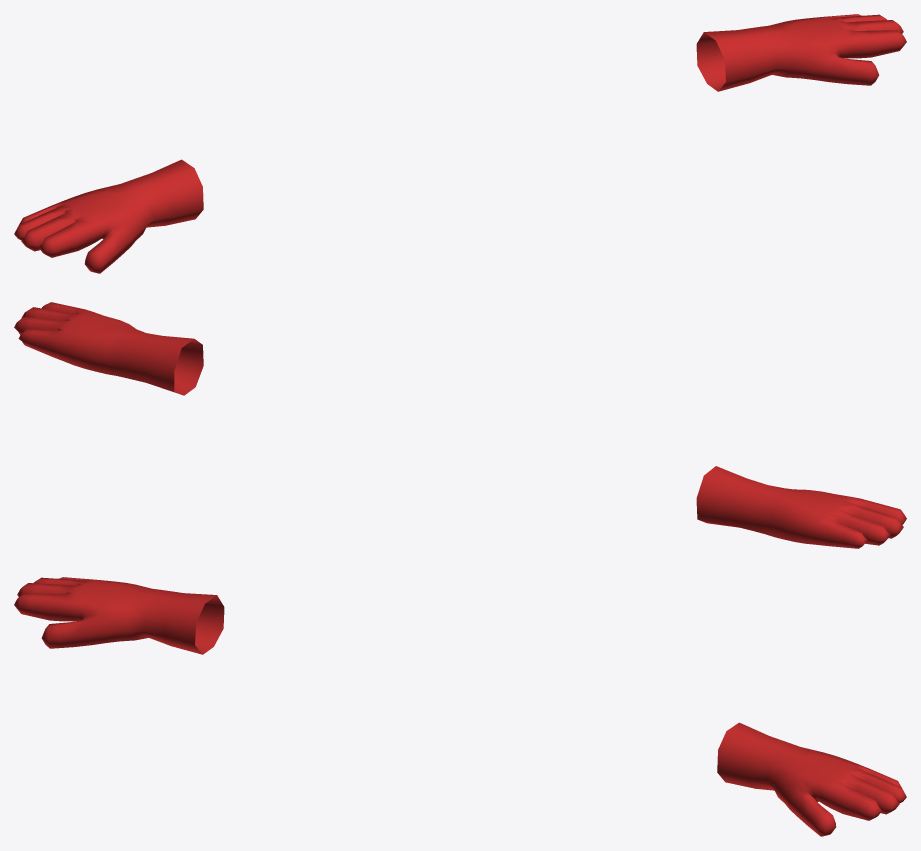
The model's file is Glove_008.glb.
The picture shows the model from 3 angles, top to bottom: view 1: azimuth 30°, elevation 25°; view 2: azimuth 150°, elevation 25°; view 3: azimuth 330°, elevation 25°; orthographic projection.
Parts seen in each view (by area): view 1: Glove_008; view 2: Glove_008; view 3: Glove_008.
Boxes of the visible parts, box(x1,y1,x2,y2) form: Glove_008: box(14, 14, 906, 273); Glove_008: box(14, 302, 906, 548); Glove_008: box(14, 577, 906, 836).
Bounding box in the file's own units: 1.82 × 0.1076 × 0.1887.
Materials: 1 (1 with a texture image).
